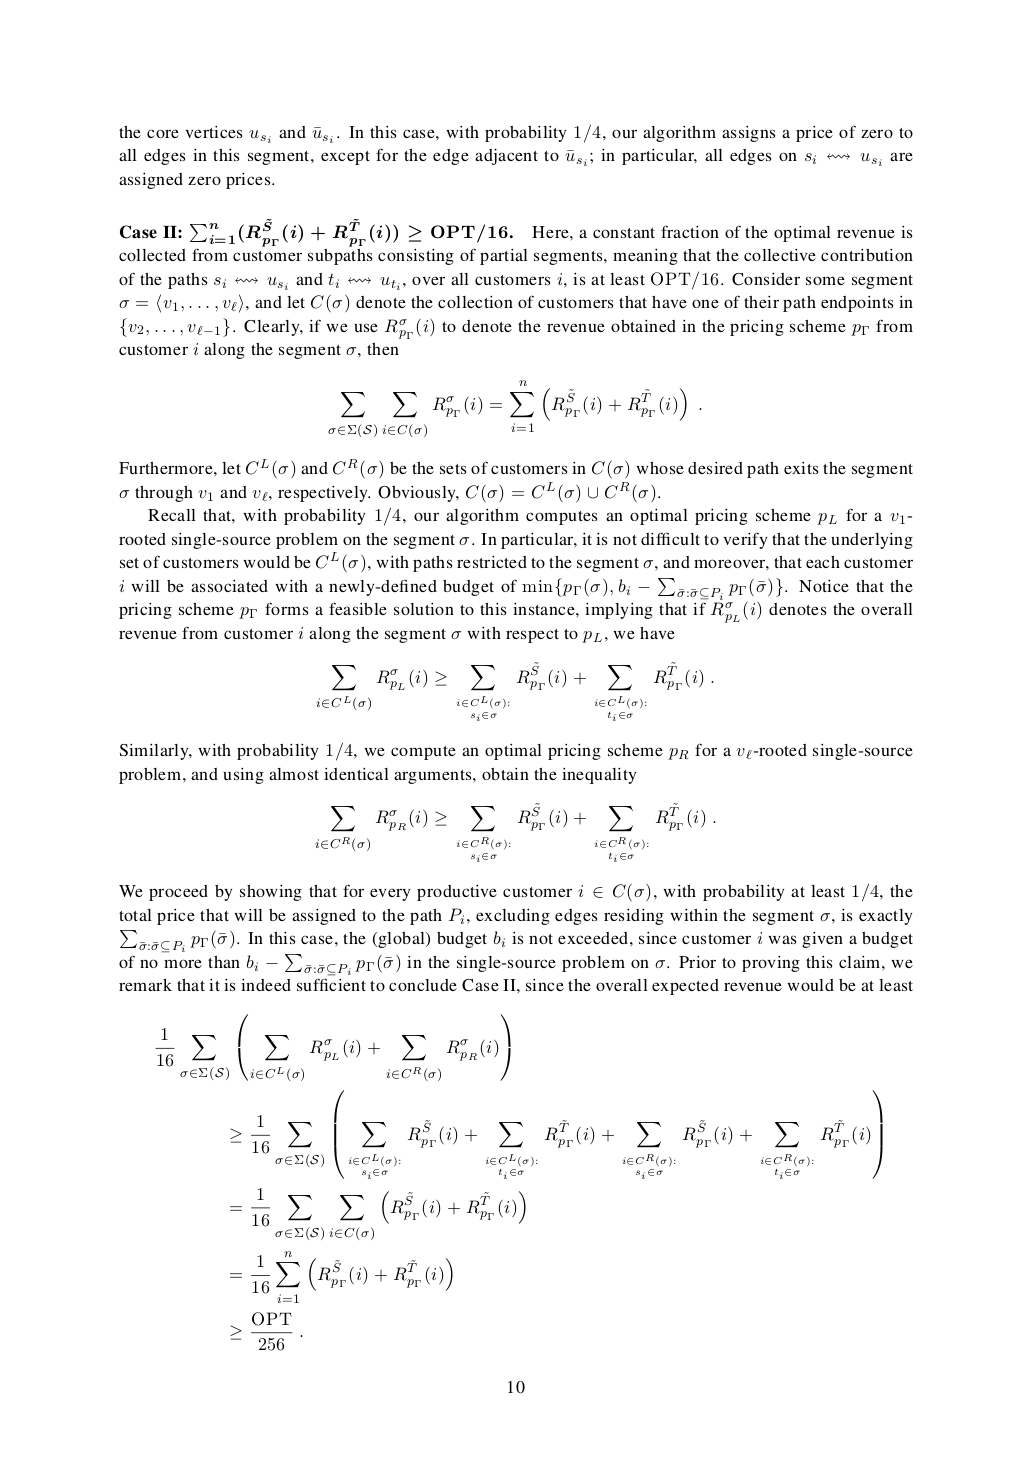formula: (230, 1088, 881, 1179), (155, 1013, 510, 1082), (315, 803, 715, 861), (316, 661, 713, 719), (328, 380, 701, 437), (230, 1187, 526, 1241), (230, 1250, 452, 1303), (230, 1312, 302, 1350)
